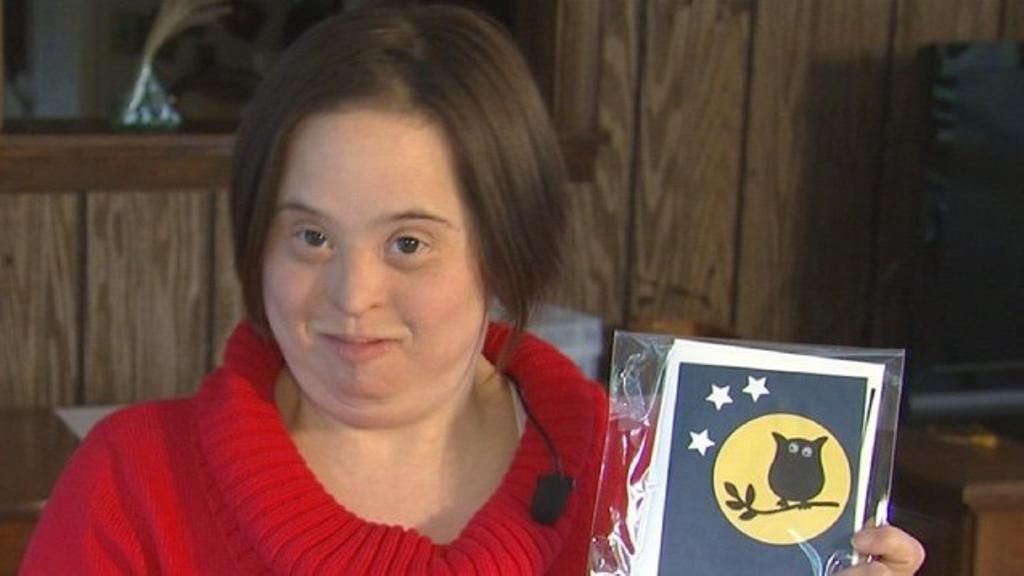face: (253, 111, 483, 427)
